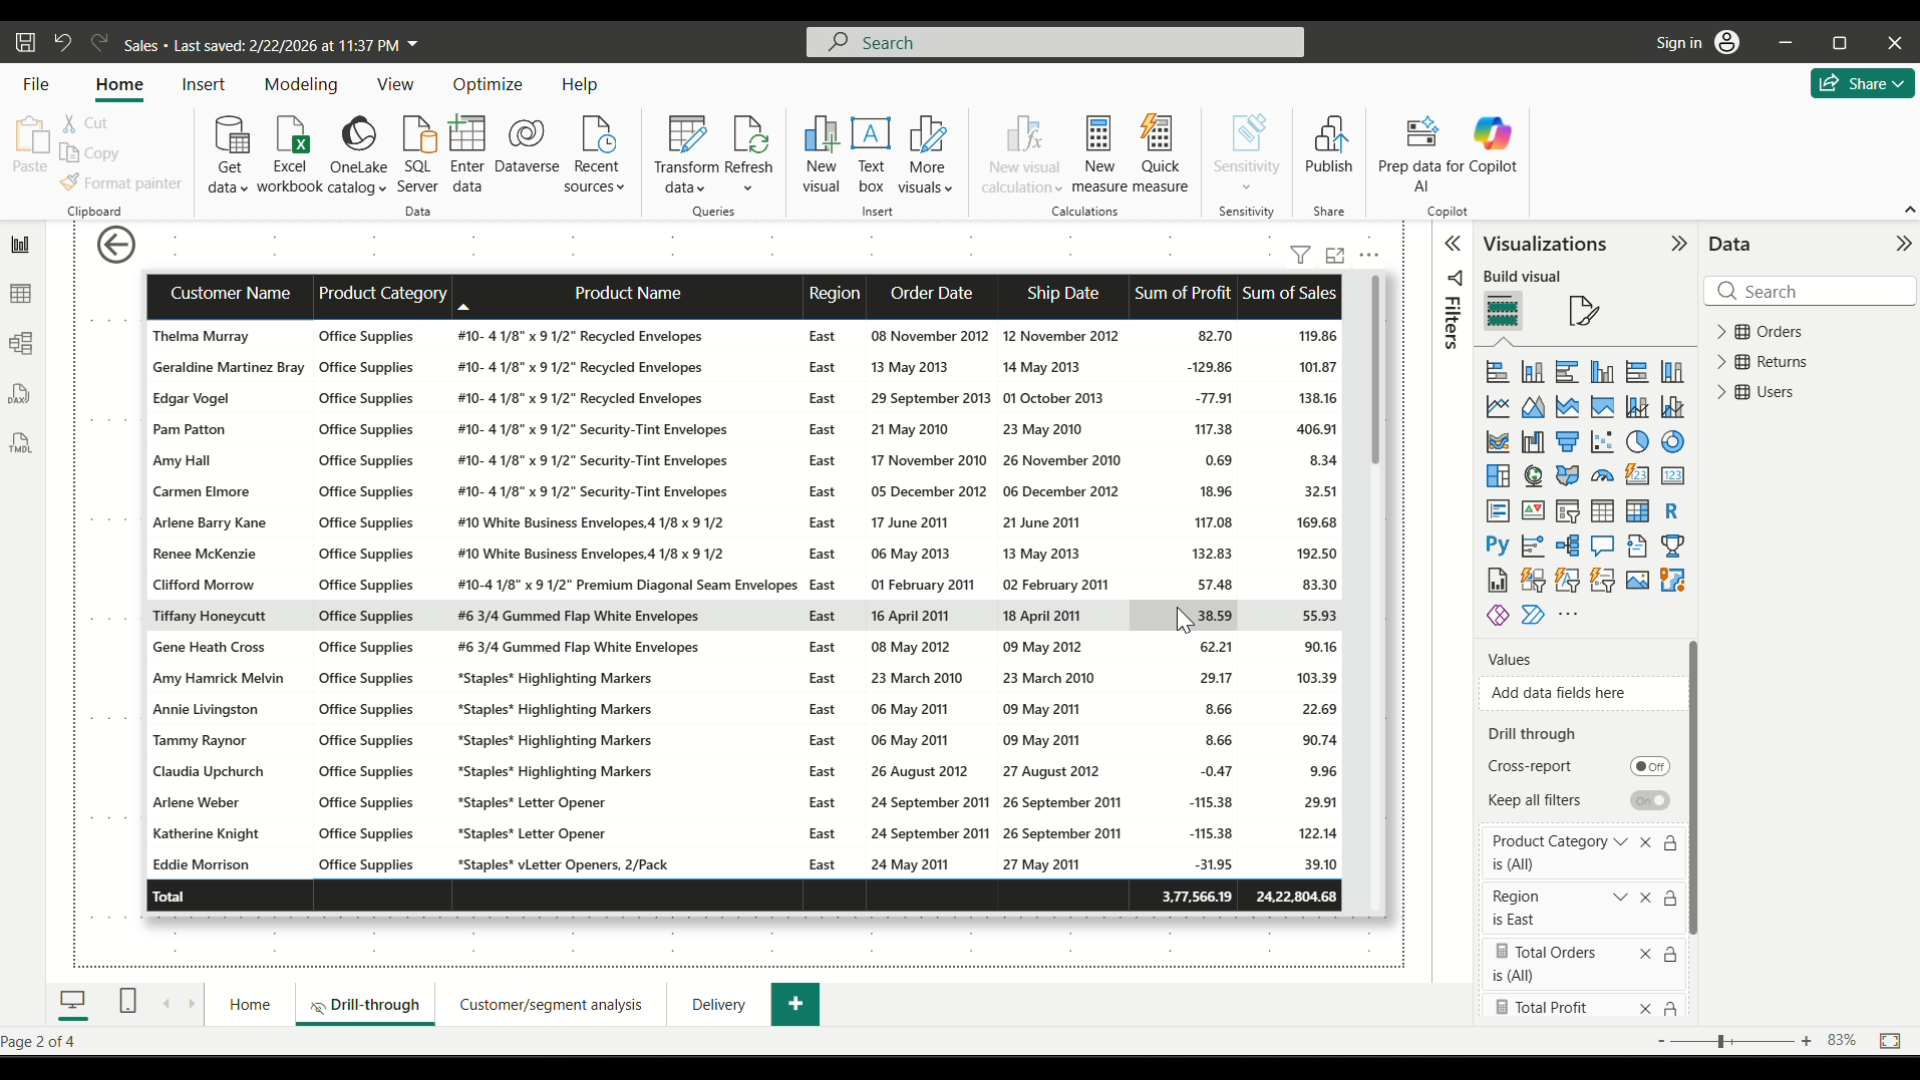

The page's visual inventory and layout, read from the dashboard file:
{"tool":"powerbi","page":{"name":"Drill-through","canvas":[1280,720],"ordinal":1},"visuals":[{"type":"tableEx","fields":{"Values":["Orders.Customer Name","Orders.Product Category","Orders.Product Name","Orders.Region","Orders.Order Date","Orders.Ship Date","Sum(Orders.Profit)","Sum(Orders.Sales)"]},"box":[64,48,1200,624],"z":0},{"type":"actionButton","box":[16,0,80,48],"z":1000}]}

Visuals, with their boxes on the page's 1280x720 design canvas (x1, y1, x2, y2). These are canvas units, not pixel positions in the 1920x1080 screenshot, which may show the page scaled, cropped or inside an application window:
tableEx - Orders.Customer Name x Orders.Product Category: select_region(64, 48, 1264, 672)
actionButton: select_region(16, 0, 96, 48)
